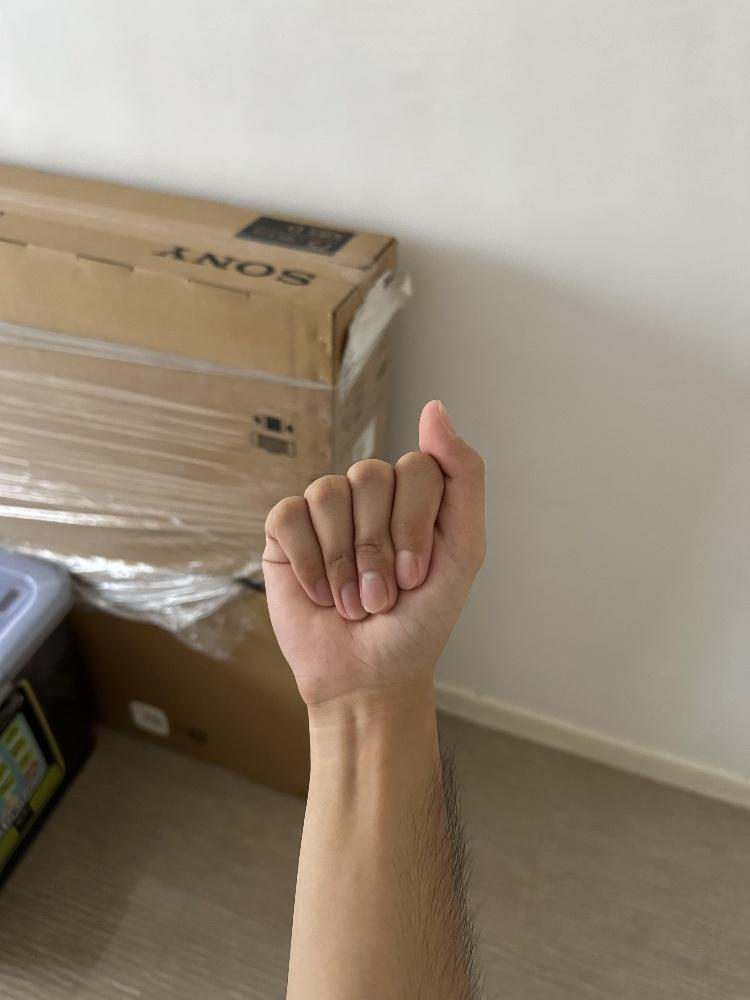a: (260, 397, 490, 711)
